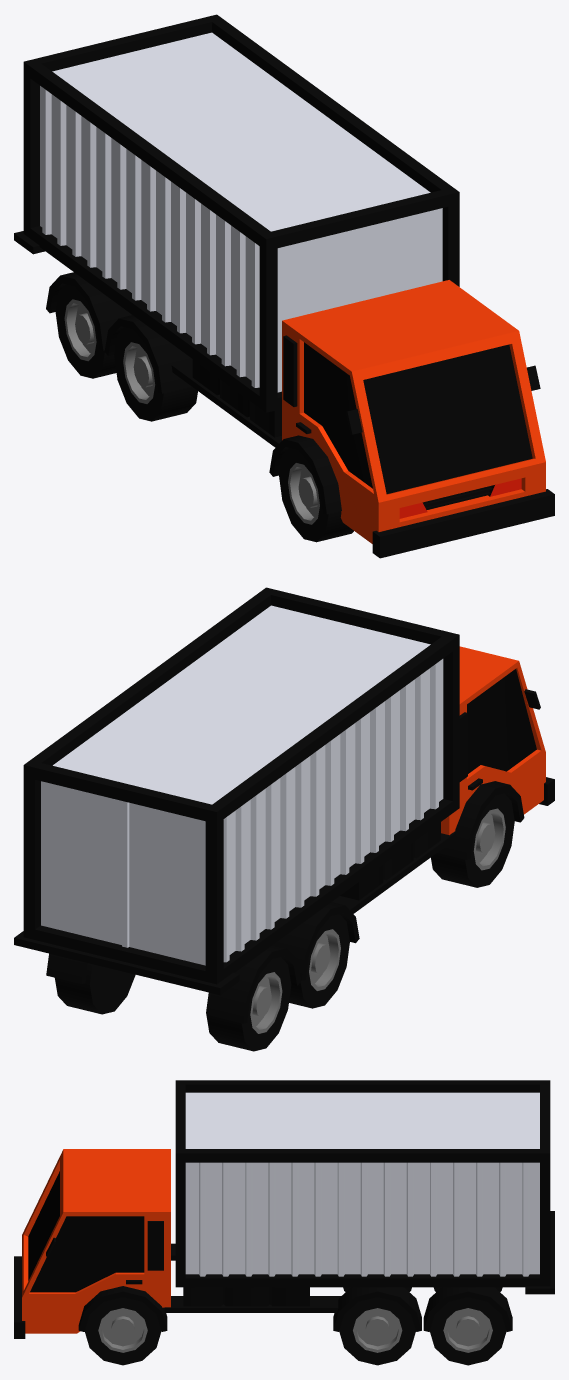
File: Truck.fbx
The picture shows the model from 3 angles, top to bottom: view 1: azimuth 30°, elevation 25°; view 2: azimuth 150°, elevation 25°; view 3: azimuth 270°, elevation 25°; orthographic projection. The views are drawn at different scales.
Visible parts, largest first — view 1: Truck; view 2: Truck; view 3: Truck.
Boxes of the visible parts, x1,y1,x2,y2 form: Truck: [14, 14, 554, 558]; Truck: [14, 587, 554, 1051]; Truck: [14, 1080, 554, 1365].
Bounding box in the file's own units: 98.69 × 126 × 290.
